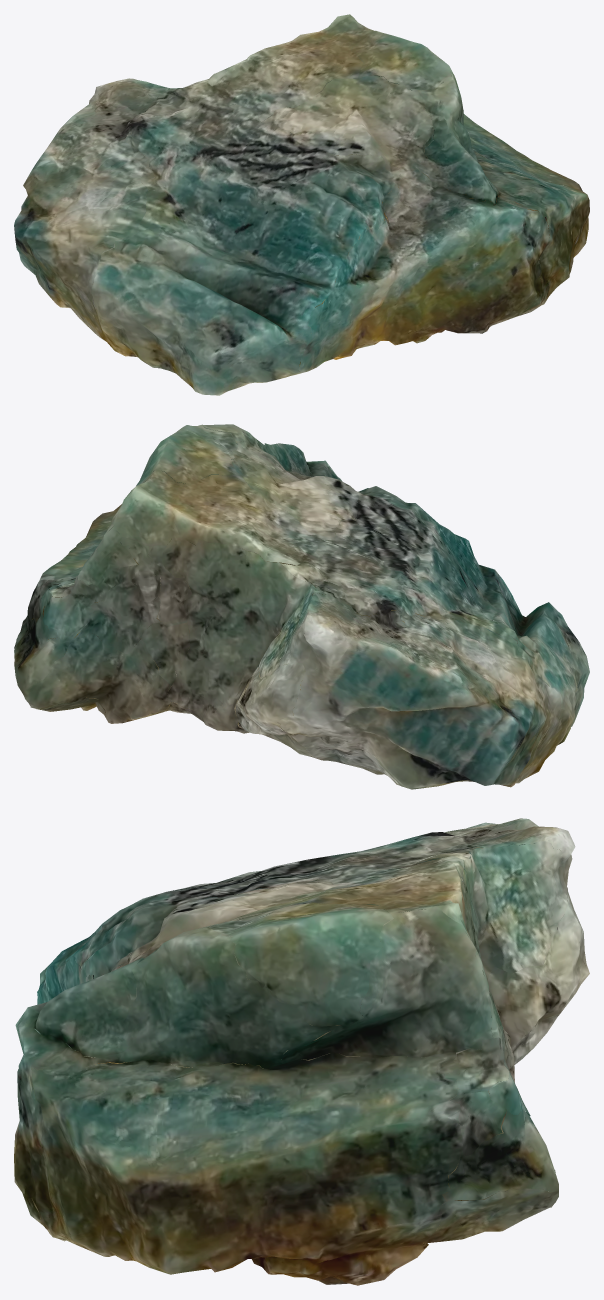
Rendered from prop_rock.glb.
The picture shows the model from 3 angles, top to bottom: view 1: azimuth 30°, elevation 25°; view 2: azimuth 150°, elevation 25°; view 3: azimuth 270°, elevation 25°; orthographic projection. The views are drawn at different scales.
Visible parts, largest first — view 1: prop_rock; view 2: prop_rock; view 3: prop_rock.
Boxes of the visible parts, x1,y1,x2,y2 form: prop_rock: (14,14,589,395); prop_rock: (14,424,589,789); prop_rock: (14,818,589,1285).
Size of the model in its own units: 1.8 by 0.8337 by 1.3.
1 material, 1 textured.
